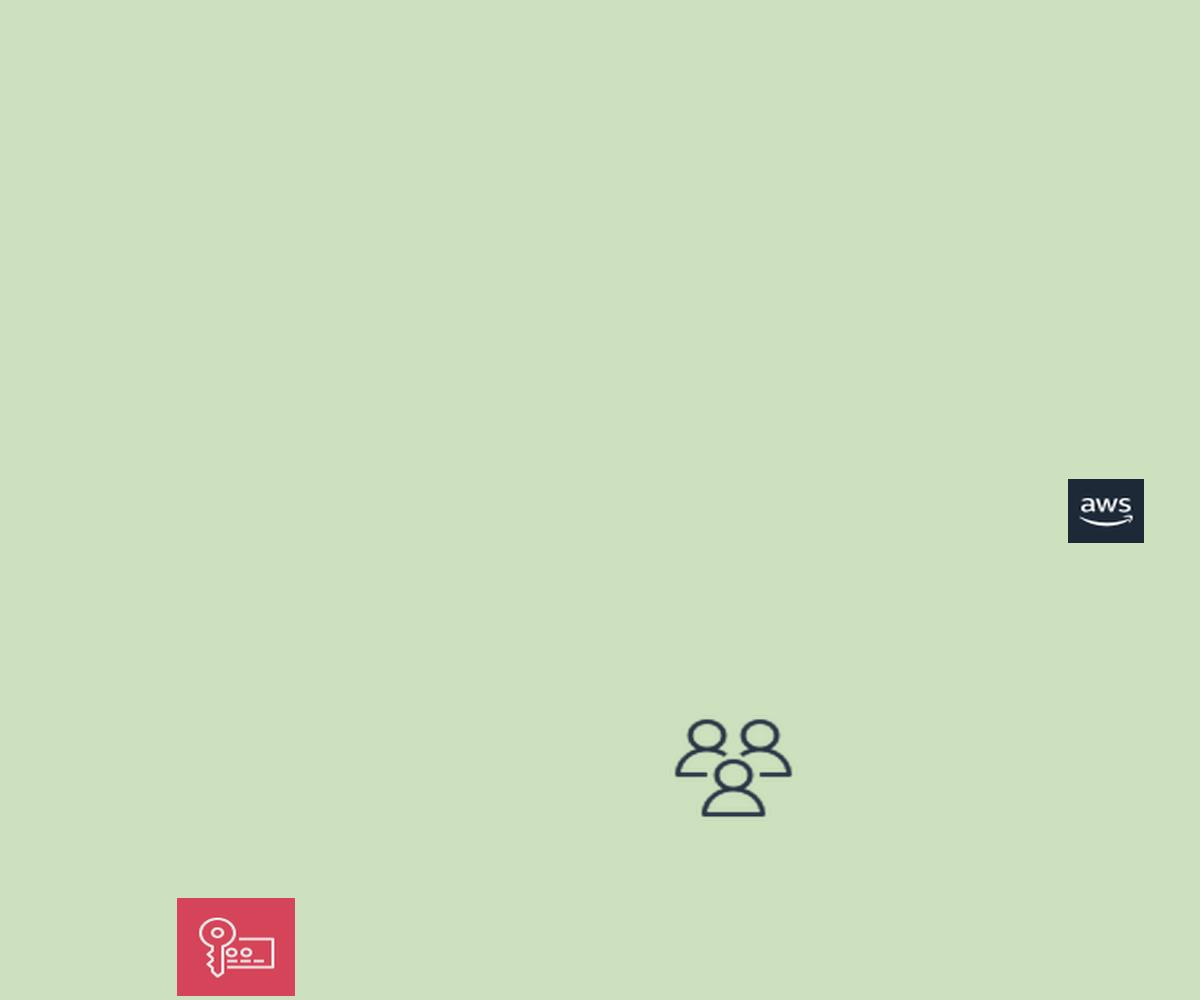AWS-Cloud-logo: (1068, 479, 1144, 543)
AWS-Key-Management-Service: (177, 898, 295, 996)
AWS-Res_Users: (670, 715, 797, 821)
